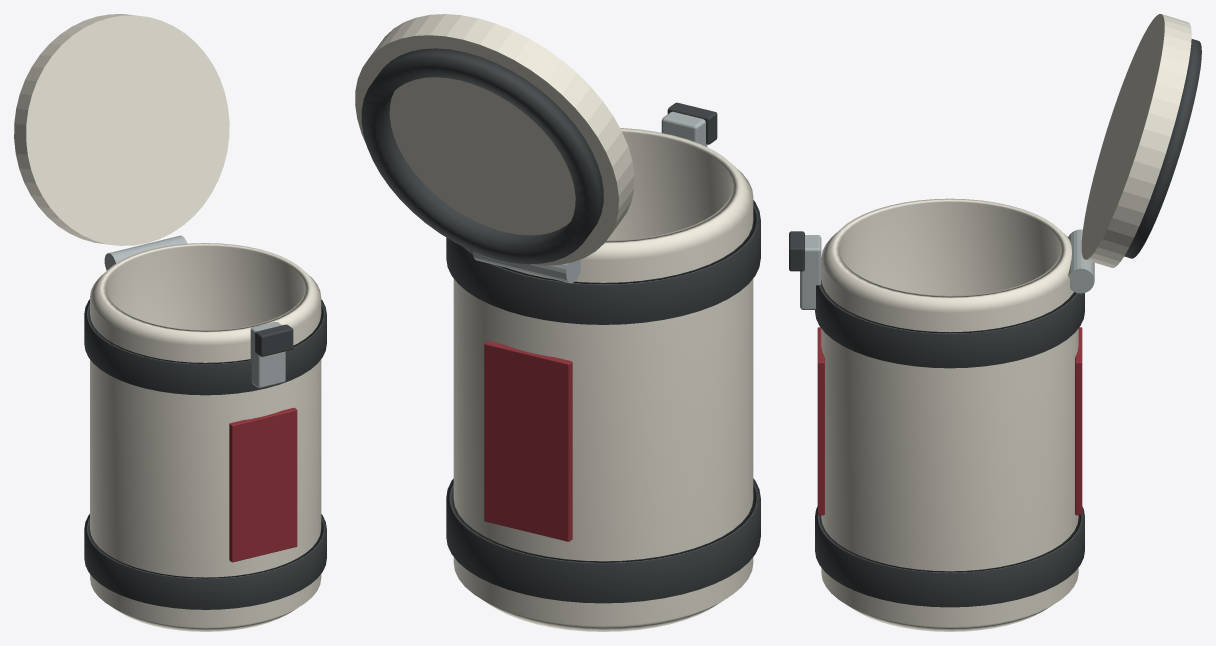
The model's file is pneumatic-tube-mail-exchange-pneumatic-tube-mail-excha-c7fe0a9d__32309.glb.
The picture shows the model from 3 angles, left to right: view 1: azimuth 30°, elevation 25°; view 2: azimuth 150°, elevation 25°; view 3: azimuth 270°, elevation 25°; orthographic projection. The views are drawn at different scales.
Visible parts, largest first — view 1: pneumatic-tube-mail-exchange-document-carrier-with-hinged-ca (×4); view 2: pneumatic-tube-mail-exchange-document-carrier-with-hinged-ca (×4); view 3: pneumatic-tube-mail-exchange-document-carrier-with-hinged-ca (×4).
Boxes of the visible parts, x1=… form: pneumatic-tube-mail-exchange-document-carrier-with-hinged-ca (×4): x1=14, y1=14, x2=326, y2=631; pneumatic-tube-mail-exchange-document-carrier-with-hinged-ca (×4): x1=355, y1=14, x2=760, y2=631; pneumatic-tube-mail-exchange-document-carrier-with-hinged-ca (×4): x1=789, y1=14, x2=1201, y2=631.
Size of the model in its own units: 0.256 by 0.5828 by 0.3913.
